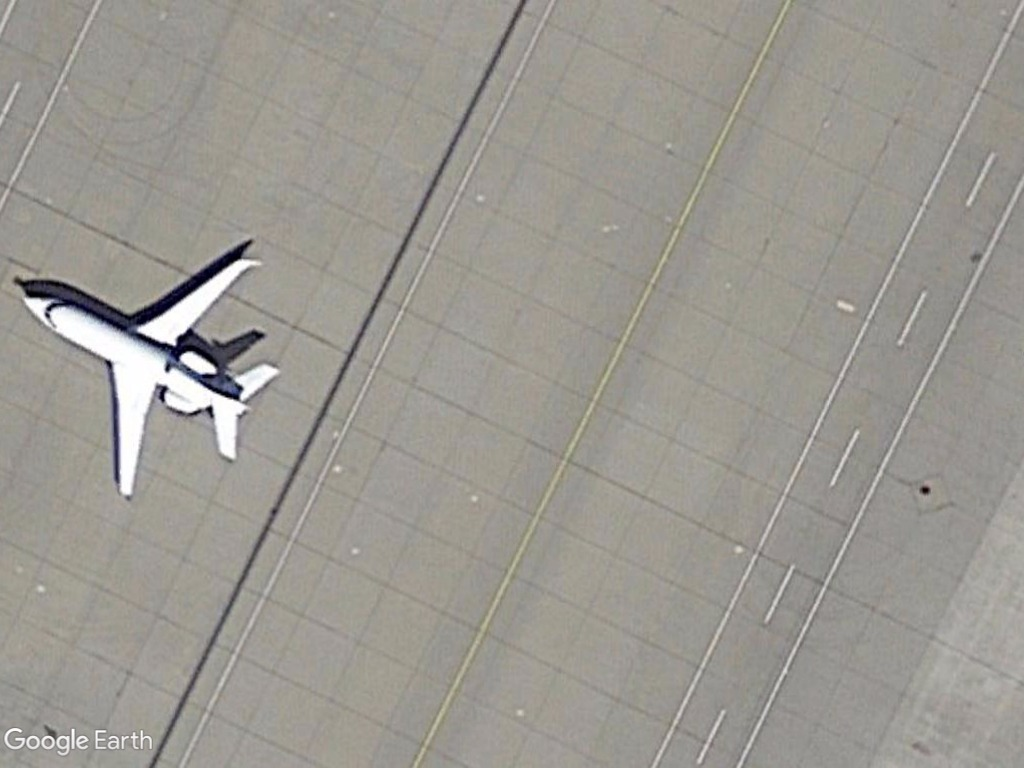chartered: (18, 252, 284, 501)
